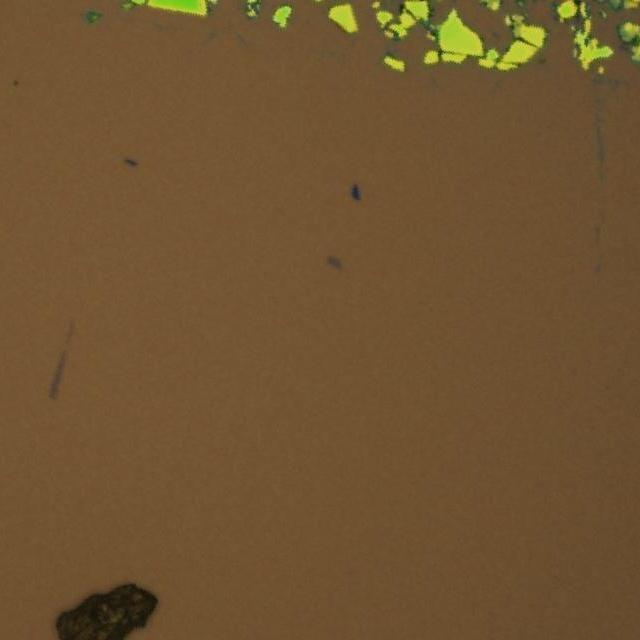monolayer-eWW4: (50, 346, 68, 401), (324, 252, 342, 270)
